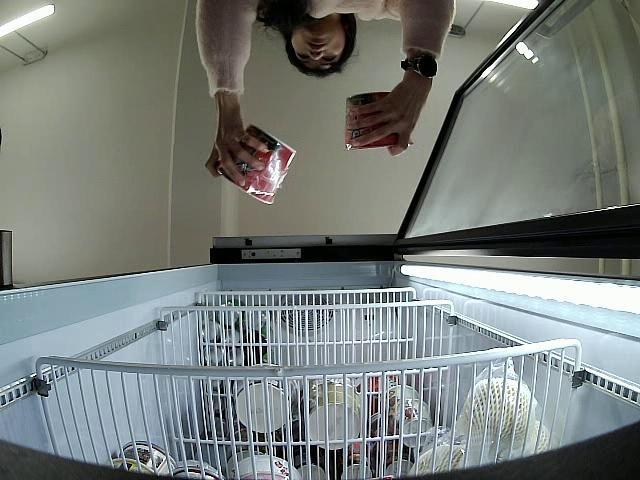01_ShinRamen_L: (218, 125, 296, 206), (345, 94, 404, 150)
